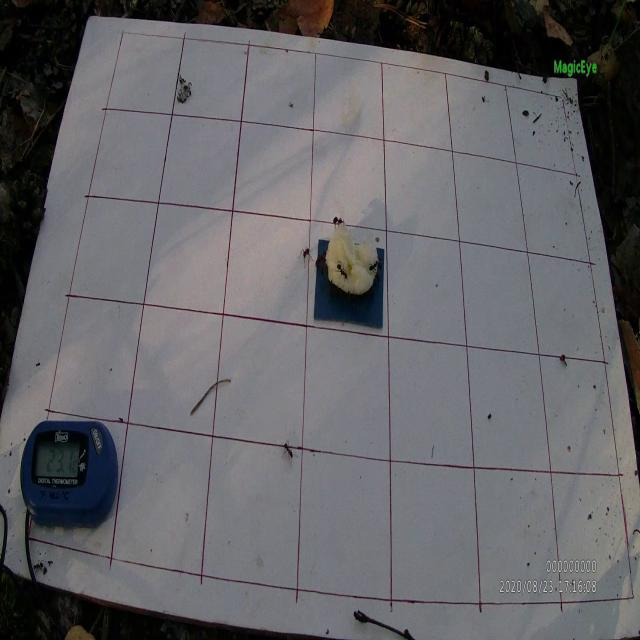Ant: (282, 439, 298, 468), (297, 246, 314, 268), (334, 260, 349, 282), (32, 559, 47, 575), (316, 250, 326, 268), (333, 215, 344, 230), (368, 260, 379, 274), (319, 258, 326, 278)
